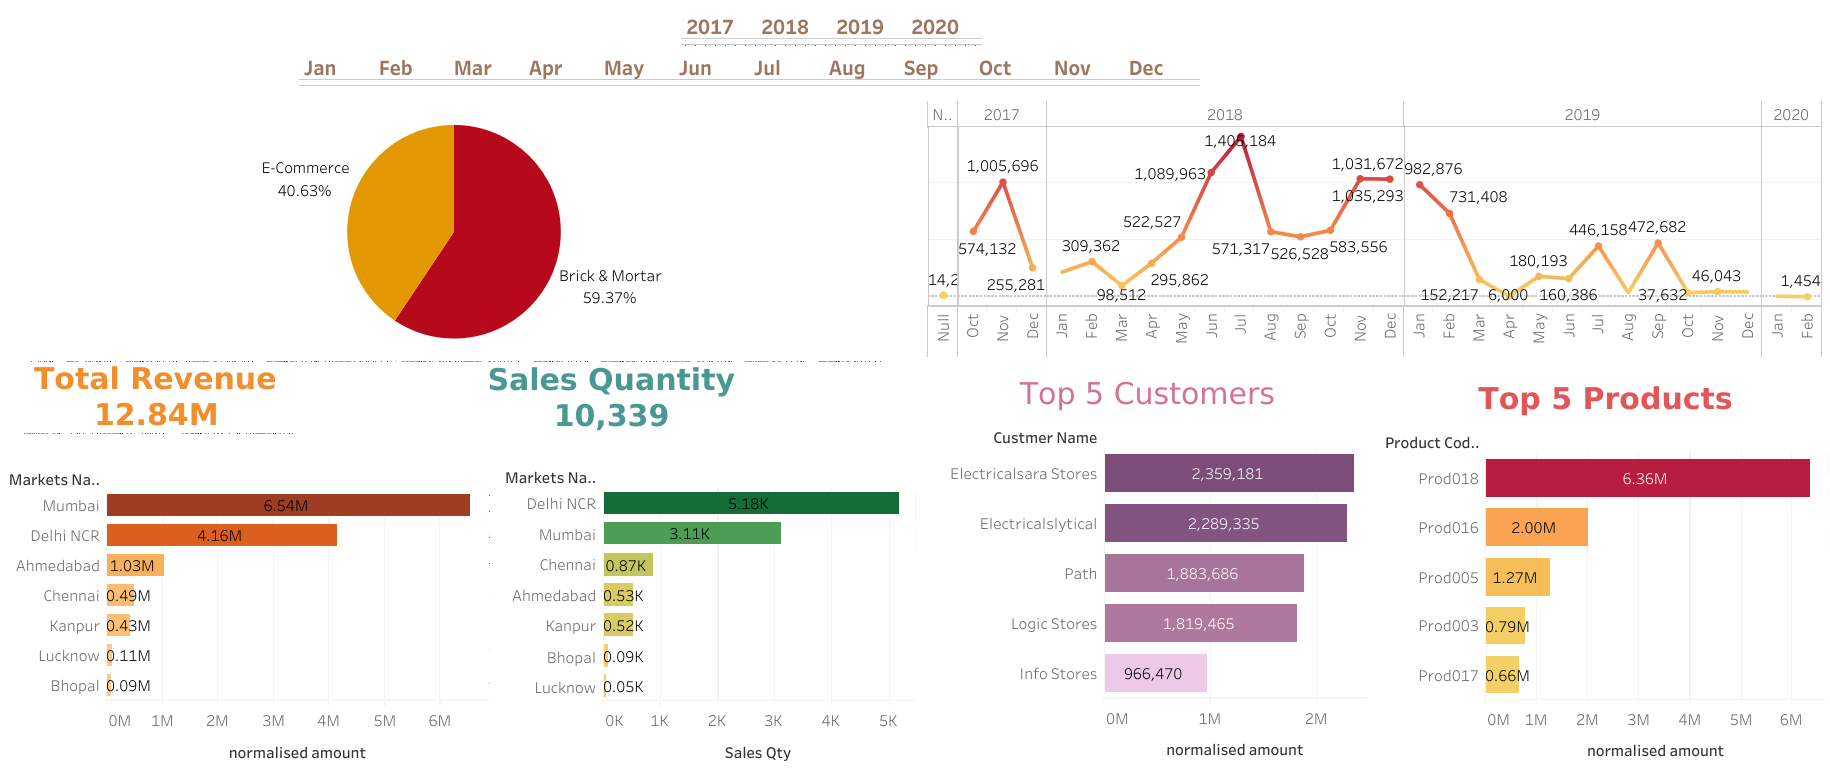

Layout of this report page (visuals, bound fields, positions):
{"tool":"tableau","page":{"name":"Dashboard 1","canvas":[1000,1000],"units":"permille","ordinal":0},"visuals":[{"type":"worksheet","title":"year","mark":"Automatic","cols":["cy_date"],"box":[372.1,16.8,209.9,54.7]},{"type":"worksheet","title":"month","mark":"Automatic","cols":["cy_date"],"box":[163.1,68.7,628.7,56.1]},{"type":"worksheet","title":"Revenue by year","mark":"Automatic","rows":["Calculation_408701728782962688"],"cols":["cy_date","cy_date"],"box":[506.4,130.4,488.5,332.4]},{"type":"worksheet","title":"Pie chart","mark":"Pie","box":[12.7,133.2,469.8,332.4]},{"type":"worksheet","title":"Revenue","mark":"Automatic","box":[10.2,465.6,248.1,112.2]},{"type":"worksheet","title":"sales quantity","mark":"Automatic","box":[259.1,467,237.9,117.8]},{"type":"worksheet","title":"Top 5 customers","mark":"Automatic","rows":["custmer_name"],"cols":["Calculation_408701728782962688"],"box":[507.2,475.5,238.7,517.5]},{"type":"worksheet","title":"Top 5 products","mark":"Automatic","rows":["product_code (products.csv)"],"cols":["Calculation_408701728782962688"],"box":[756.2,481.1,241.3,514.7]},{"type":"worksheet","title":"market sales quantity","mark":"Automatic","rows":["markets_name"],"cols":["sales_qty"],"box":[274.4,597.5,224.3,401.1]},{"type":"worksheet","title":"market revenue","mark":"Automatic","rows":["markets_name"],"cols":["Calculation_408701728782962688"],"box":[0.8,600.3,265.9,396.9]}]}

Visuals, with their boxes on the dashboard's canvas, which has no fixed pixel size, in thousandths of its width and height (x1, y1, x2, y2). These are canvas units, not pixel positions in the 1830x773 screenshot, which may show the page scaled, cropped or inside an application window:
"year" worksheet: left=372, top=17, right=582, bottom=72
"month" worksheet: left=163, top=69, right=792, bottom=125
"Revenue by year" worksheet: left=506, top=130, right=995, bottom=463
"Pie chart" worksheet (Pie marks): left=13, top=133, right=482, bottom=466
"Revenue" worksheet: left=10, top=466, right=258, bottom=578
"sales quantity" worksheet: left=259, top=467, right=497, bottom=585
"Top 5 customers" worksheet: left=507, top=476, right=746, bottom=993
"Top 5 products" worksheet: left=756, top=481, right=998, bottom=996
"market sales quantity" worksheet: left=274, top=598, right=499, bottom=999
"market revenue" worksheet: left=1, top=600, right=267, bottom=997
